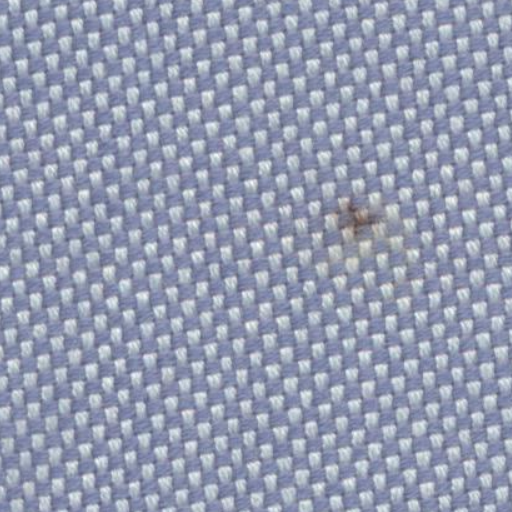WuZi: (325, 183, 432, 286)
